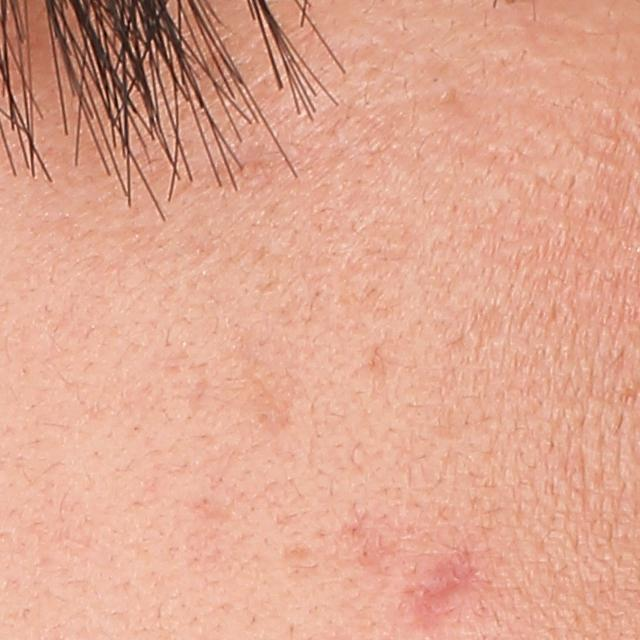atrophic_scar: (402, 543, 480, 632)
